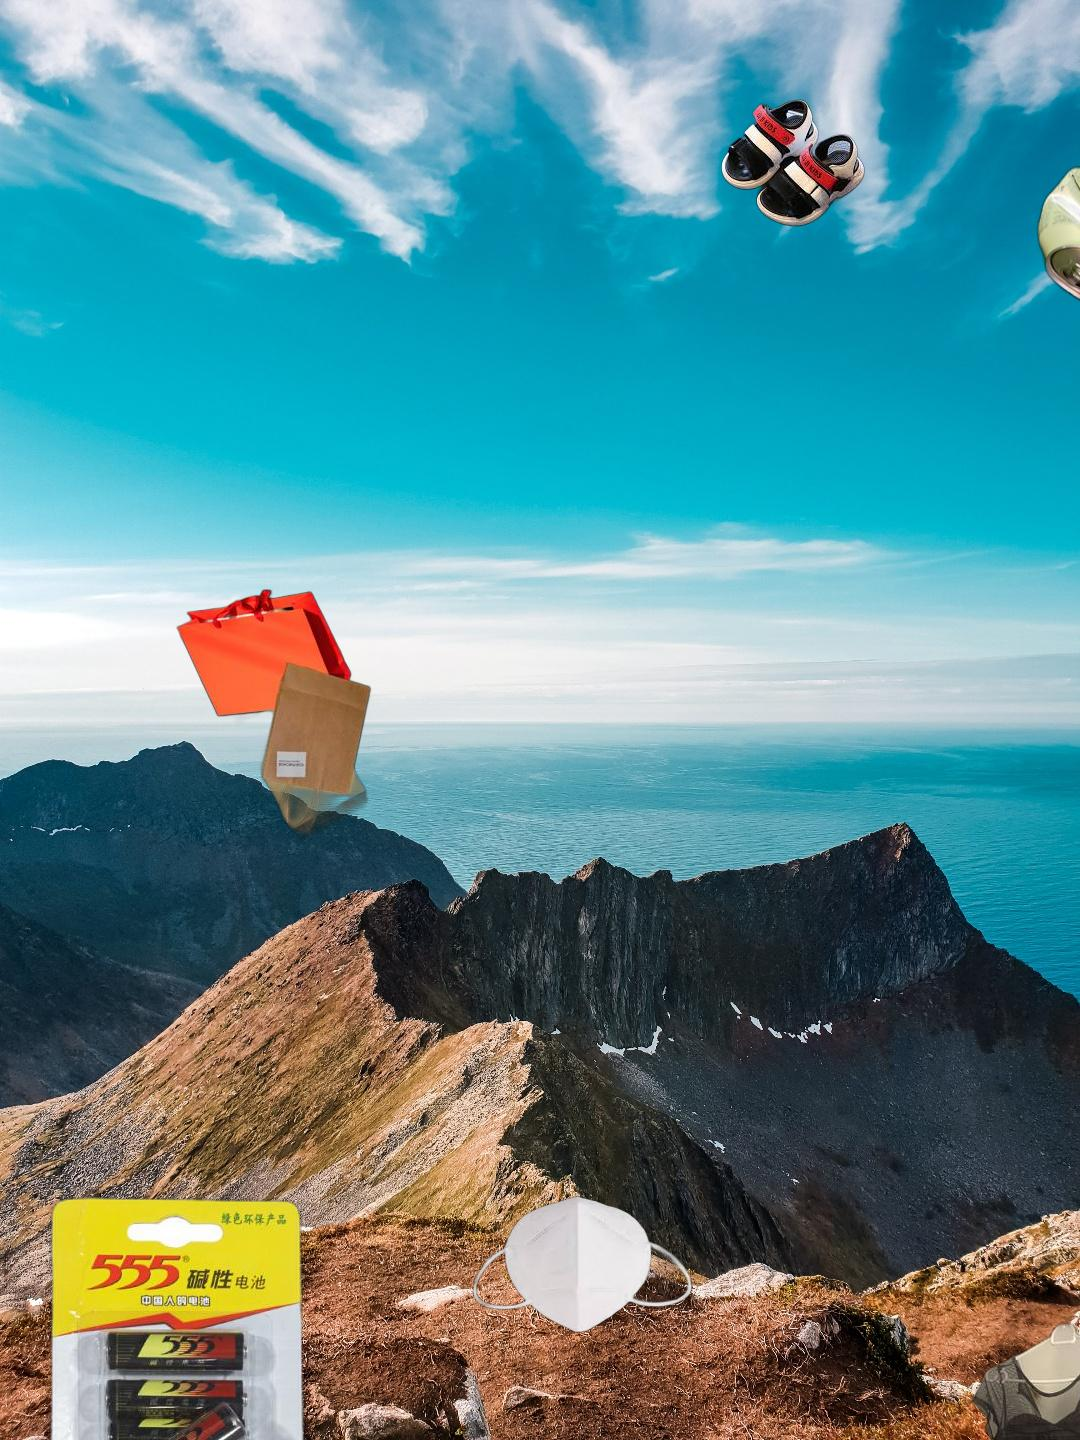battery: (44, 1191, 311, 1440)
clothes: (881, 1318, 1080, 1440)
glass: (430, 1339, 761, 1440)
metal-cans: (1033, 159, 1080, 312)
paper-bag: (174, 587, 422, 852)
shoes: (719, 98, 867, 229)
trash: (470, 1194, 694, 1335)
